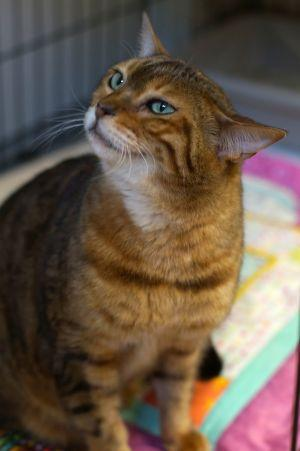bengal: (81, 8, 292, 206)
